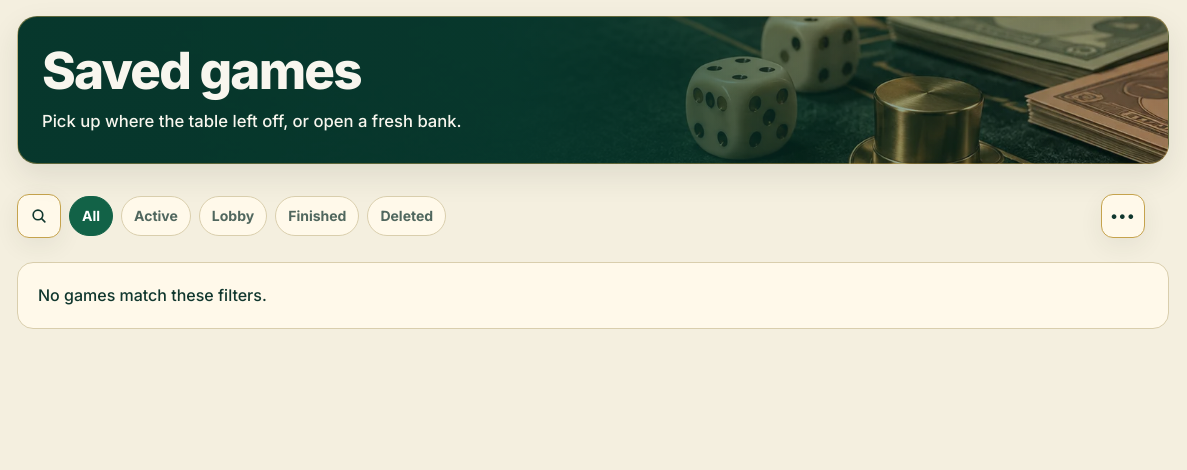
Test case: SavedGamesPage deleted games › reaches Deleted even when every game has been deleted
The image size is (1187, 470).
Click the radio button labelled "Deleted".
click(407, 216)  # box [367,196,446,236]
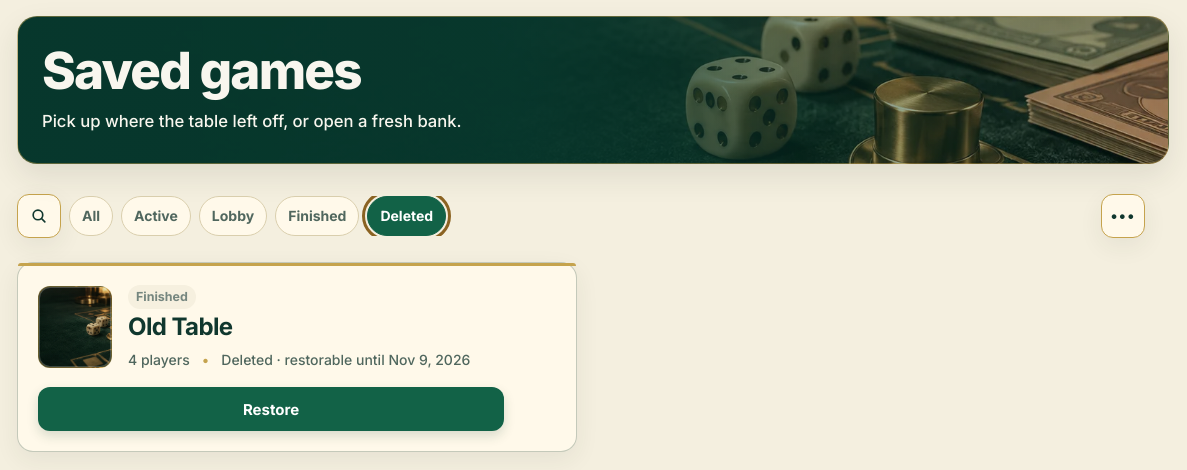
Result: the heading "Old Table" is shown at [128,312,232,341]
